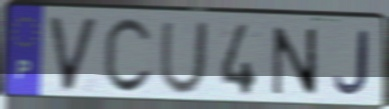4: (218, 21, 260, 98)
C: (101, 16, 155, 98)
J: (331, 29, 371, 98)
N: (270, 24, 321, 98)
U: (157, 20, 211, 97)
V: (45, 15, 102, 96)
